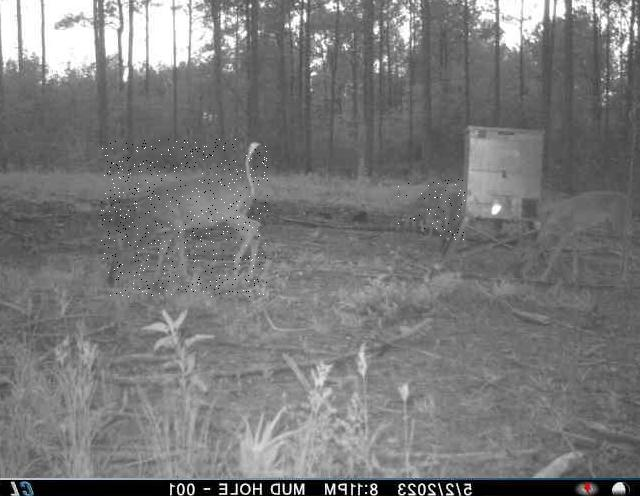Deer: (101, 139, 268, 297), (514, 187, 631, 285), (396, 182, 441, 229), (439, 179, 465, 241)
